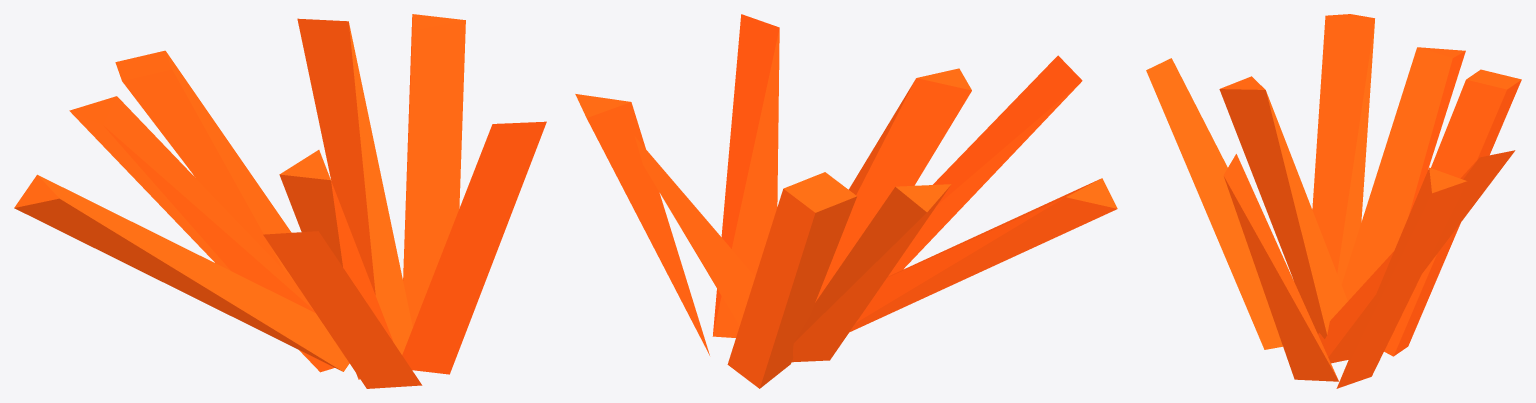
Rendered from coral1.fbx.
The picture shows the model from 3 angles, left to right: view 1: azimuth 30°, elevation 25°; view 2: azimuth 150°, elevation 25°; view 3: azimuth 270°, elevation 25°; orthographic projection. The views are drawn at different scales.
Parts seen in each view (by area): view 1: Piano.030; view 2: Piano.030; view 3: Piano.030.
Part boxes in pixels (left/top/right/bottom): Piano.030: left=14, top=14, right=546, bottom=388; Piano.030: left=575, top=14, right=1117, bottom=388; Piano.030: left=1146, top=14, right=1521, bottom=388.
Size of the model in its own units: 252 by 132 by 196.
